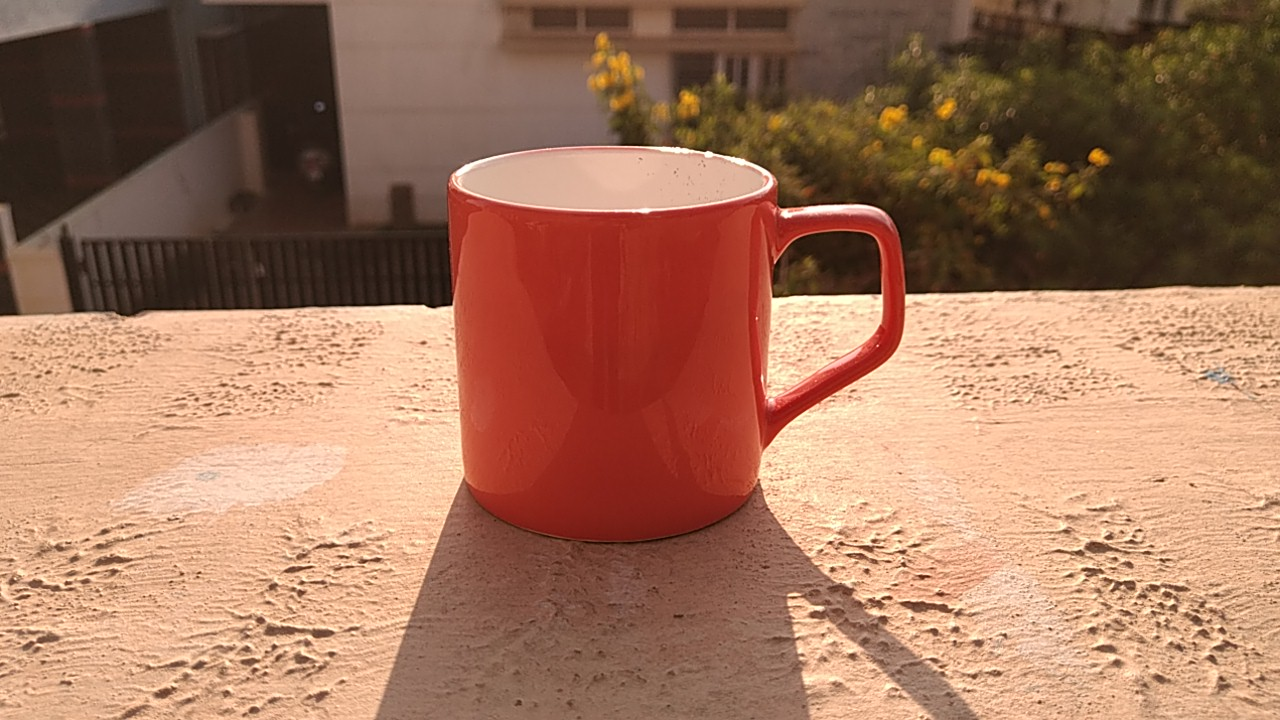cup: (418, 131, 930, 555)
